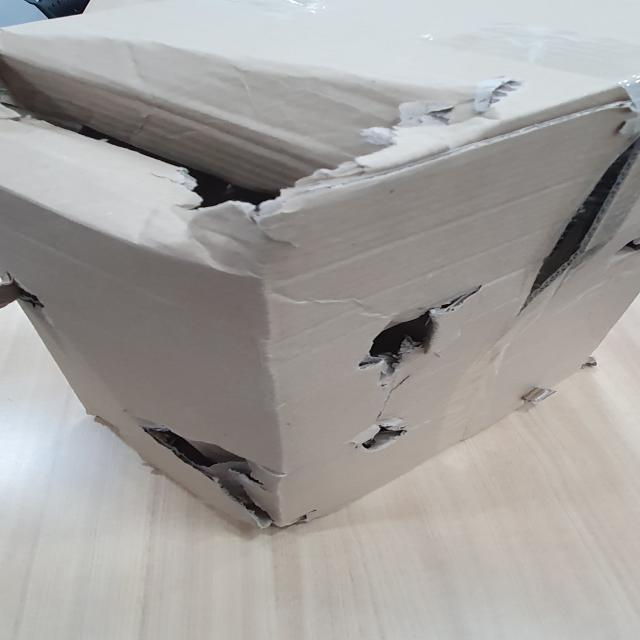hole: (0, 28, 516, 226), (107, 415, 312, 531), (327, 279, 500, 369), (342, 415, 418, 455), (0, 267, 48, 315)
